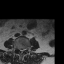CCS_normal: (21, 47, 22, 55)
LFS_normal: (24, 46, 26, 51)
LLS_normal: (22, 47, 24, 53)
RFS_normal: (17, 46, 19, 51)
RLS_stenosis: (19, 47, 21, 52)
